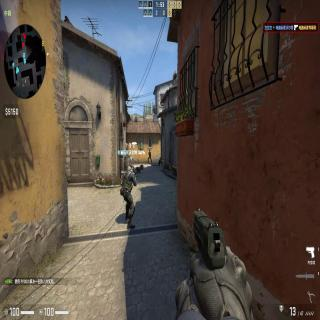CT-Body: (120, 164, 137, 227)
T-Body: (147, 150, 153, 164)
